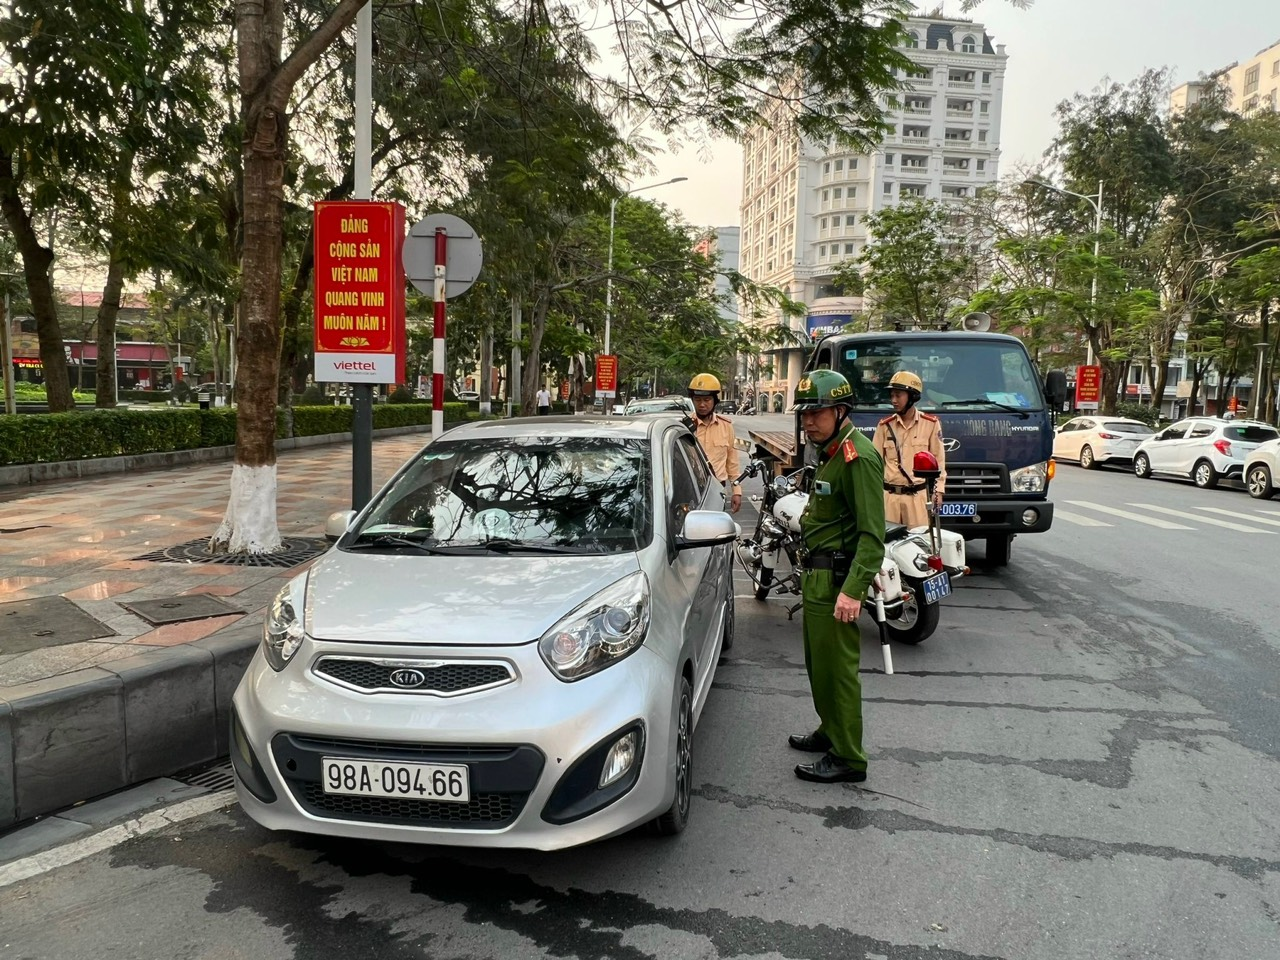number-plate: (321, 759, 476, 807)
